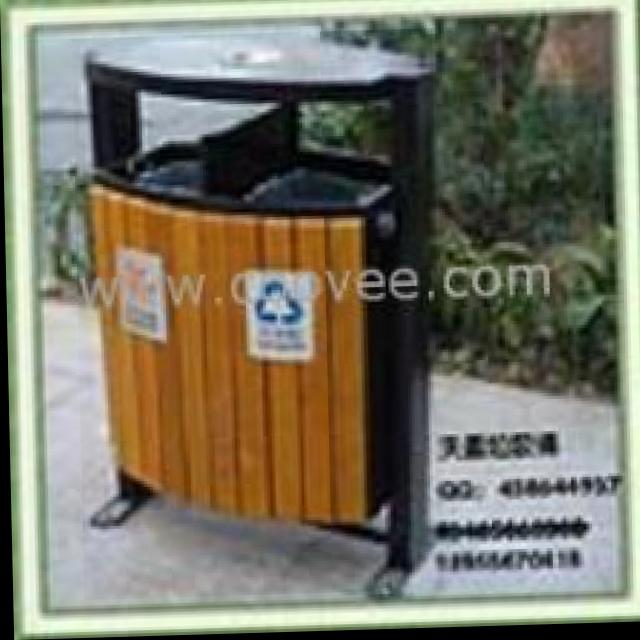garbage_bin: (72, 31, 442, 600)
